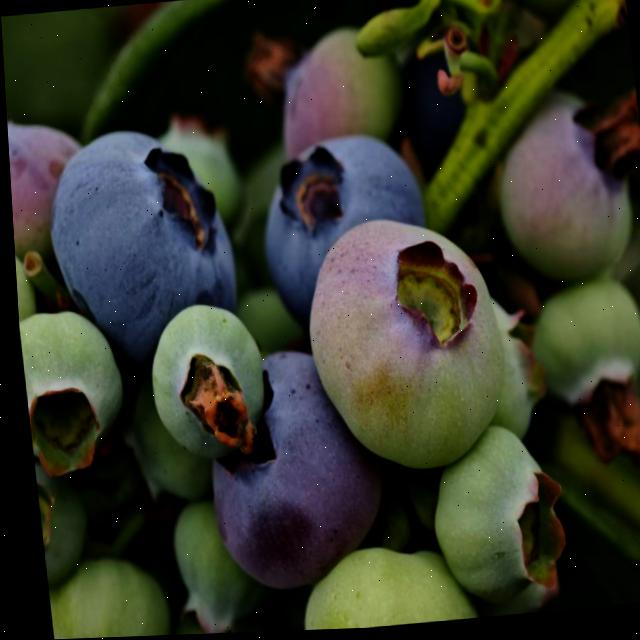RipeBlueBerry: (36, 119, 246, 365), (248, 134, 435, 325)
Semi-RipeBlueBerry: (193, 347, 388, 600), (489, 88, 640, 290), (265, 24, 409, 164)
UnripeBlueBerry: (295, 210, 512, 484), (418, 422, 566, 611), (139, 298, 270, 468), (15, 304, 128, 480), (526, 281, 640, 438)
